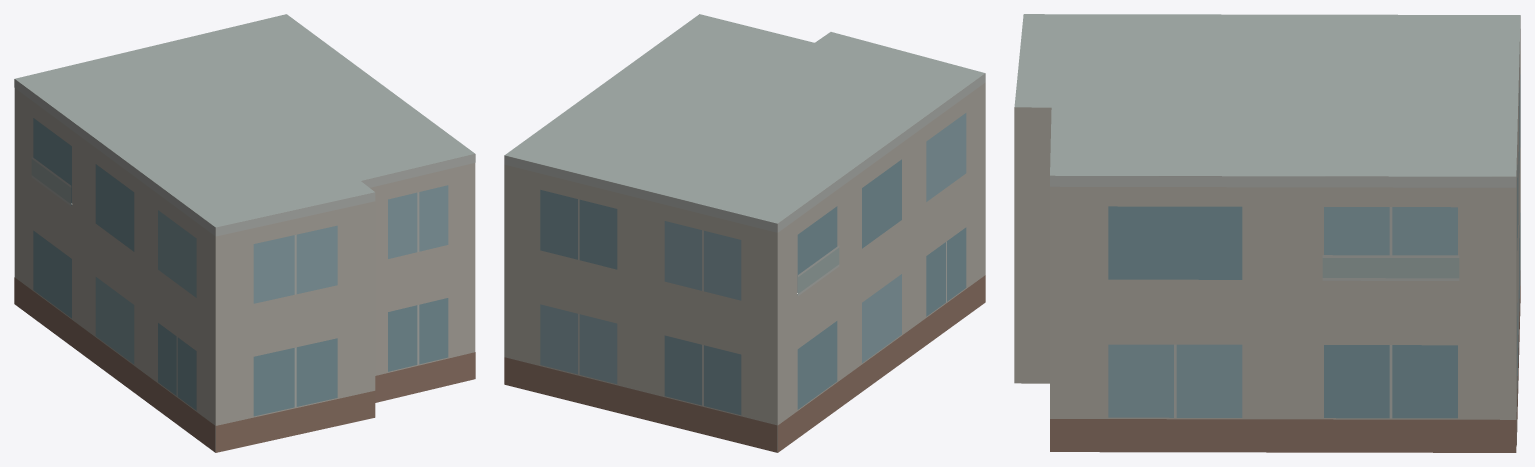
File: survey-upis-32597939.glb
3 renders of one model, left to right at view 1: azimuth 30°, elevation 25°; view 2: azimuth 150°, elevation 25°; view 3: azimuth 270°, elevation 25°, orthographic. The views are drawn at different scales.
Parts seen in each view (by area): view 1: survey-upis-32597939.tmp; view 2: survey-upis-32597939.tmp; view 3: survey-upis-32597939.tmp.
Part boxes in pixels (x1=…): survey-upis-32597939.tmp: x1=14, y1=14, x2=475, y2=452; survey-upis-32597939.tmp: x1=504, y1=14, x2=985, y2=452; survey-upis-32597939.tmp: x1=1014, y1=14, x2=1520, y2=452.
Size of the model in its own units: 7.75 by 6.1 by 10.14.
